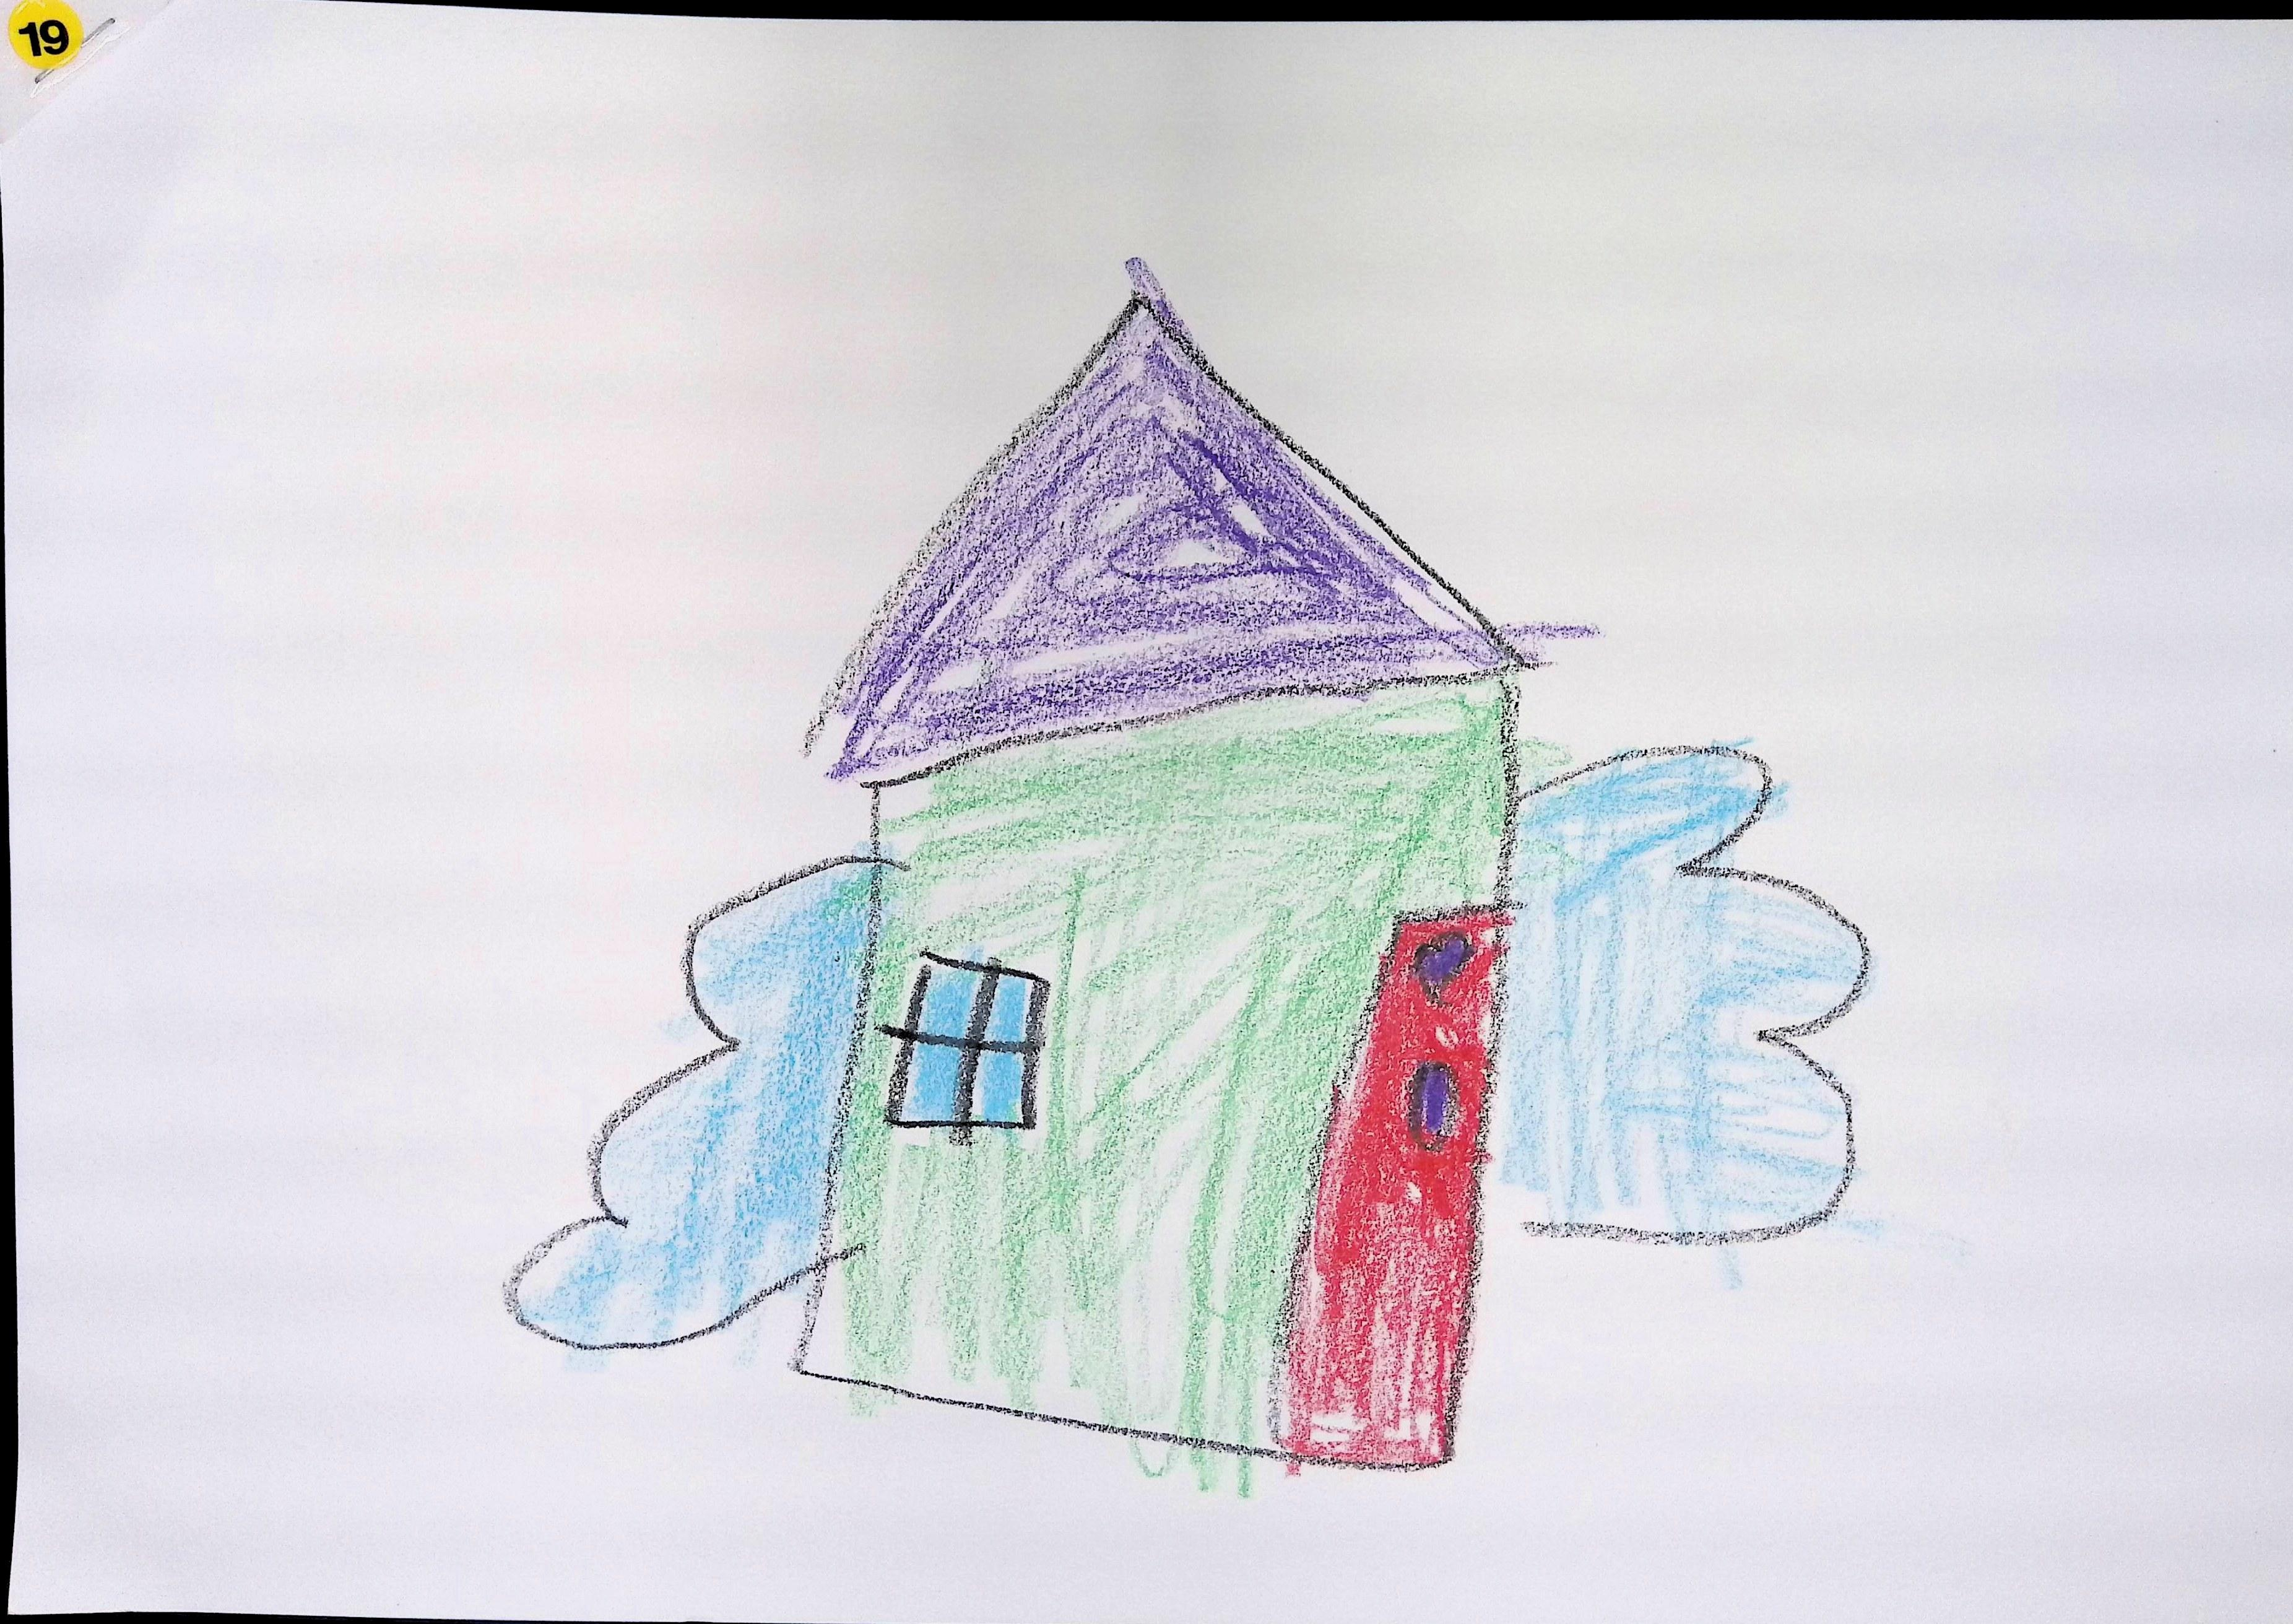door: (1277, 907, 1513, 1468)
house: (508, 258, 1866, 1468)
roof: (805, 255, 1539, 782)
wall: (794, 668, 1518, 1475)
window: (887, 951, 1049, 1130)
